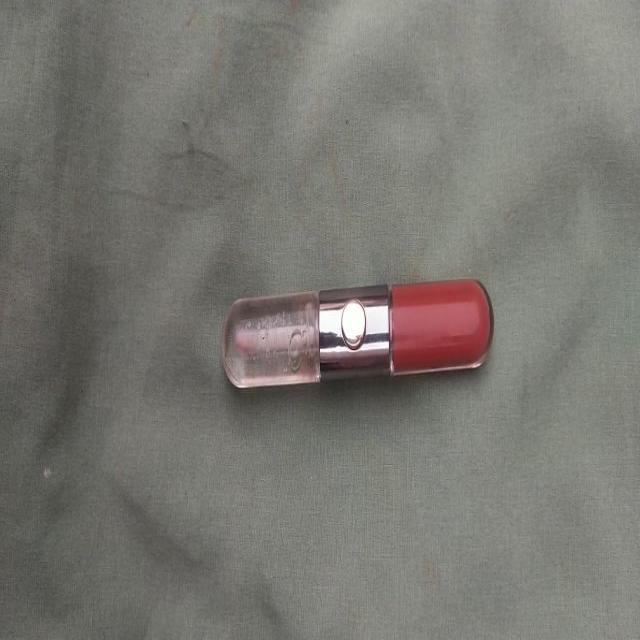lip gloss: (215, 280, 505, 398)
